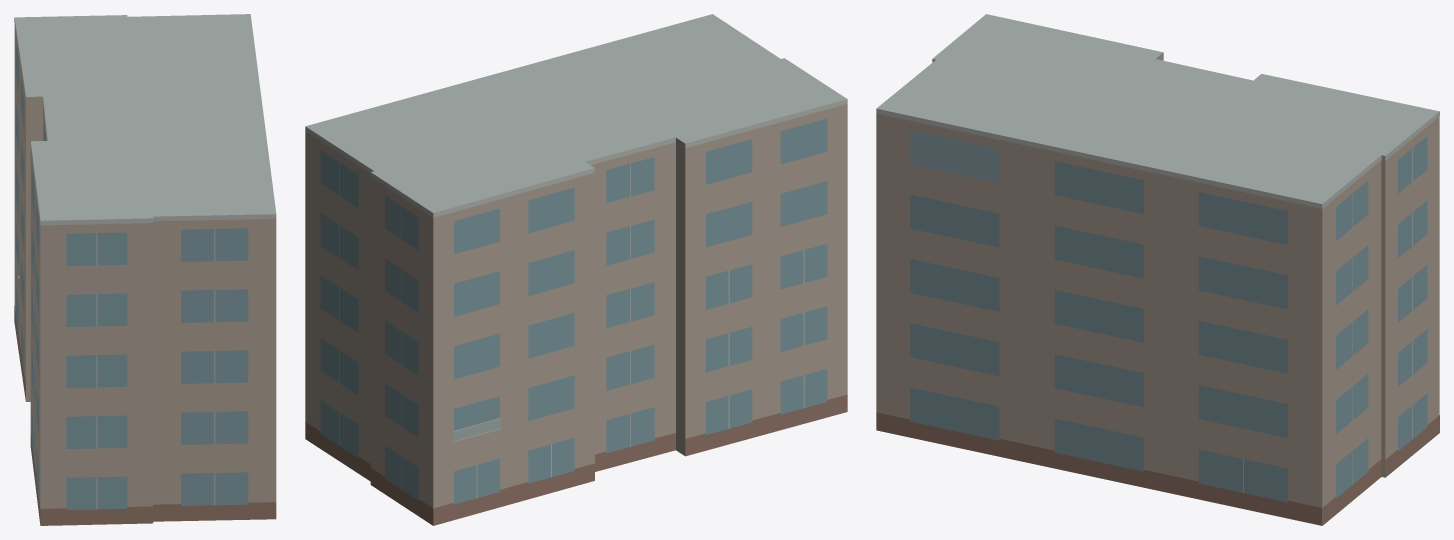
The model's file is survey-upis-32658455.glb.
The picture shows the model from 3 angles, left to right: view 1: azimuth 30°, elevation 25°; view 2: azimuth 150°, elevation 25°; view 3: azimuth 270°, elevation 25°; orthographic projection. The views are drawn at different scales.
Parts seen in each view (by area): view 1: survey-upis-32658455.tmp; view 2: survey-upis-32658455.tmp; view 3: survey-upis-32658455.tmp.
Boxes of the visible parts, x1=… form: survey-upis-32658455.tmp: x1=14, y1=14, x2=276, y2=525; survey-upis-32658455.tmp: x1=305, y1=14, x2=847, y2=525; survey-upis-32658455.tmp: x1=876, y1=14, x2=1439, y2=525.
Bounding box in the file's own units: 20.43 × 16.1 × 25.57.
